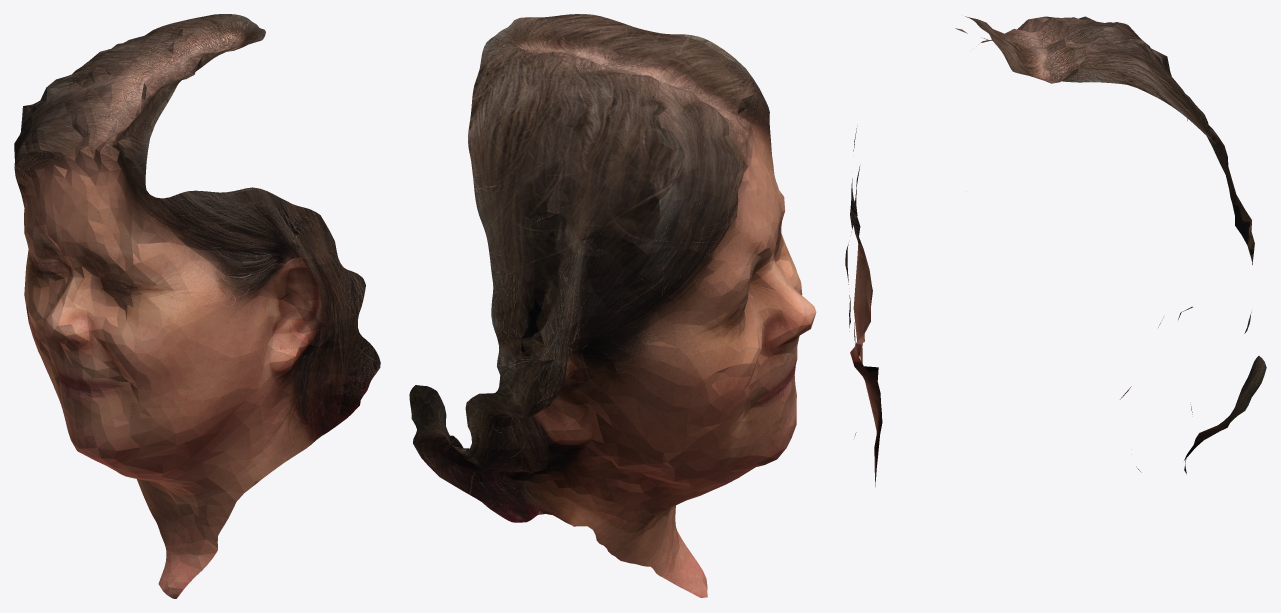
Rendered from BUSTO_101.glb.
3 views of the same model, side by side, from view 1: azimuth 30°, elevation 25°; view 2: azimuth 150°, elevation 25°; view 3: azimuth 270°, elevation 25° (orthographic). The views are drawn at different scales.
Visible parts, largest first — view 1: Mesh_0.002; view 2: Mesh_0.002; view 3: Mesh_0.002.
Part boxes in pixels (bbox=[...]): Mesh_0.002: bbox=[14, 14, 380, 598]; Mesh_0.002: bbox=[409, 14, 816, 597]; Mesh_0.002: bbox=[845, 16, 1266, 486].
Bounding box in the file's own units: 2.74 × 4.82 × 3.06.
1 material, 1 textured.
